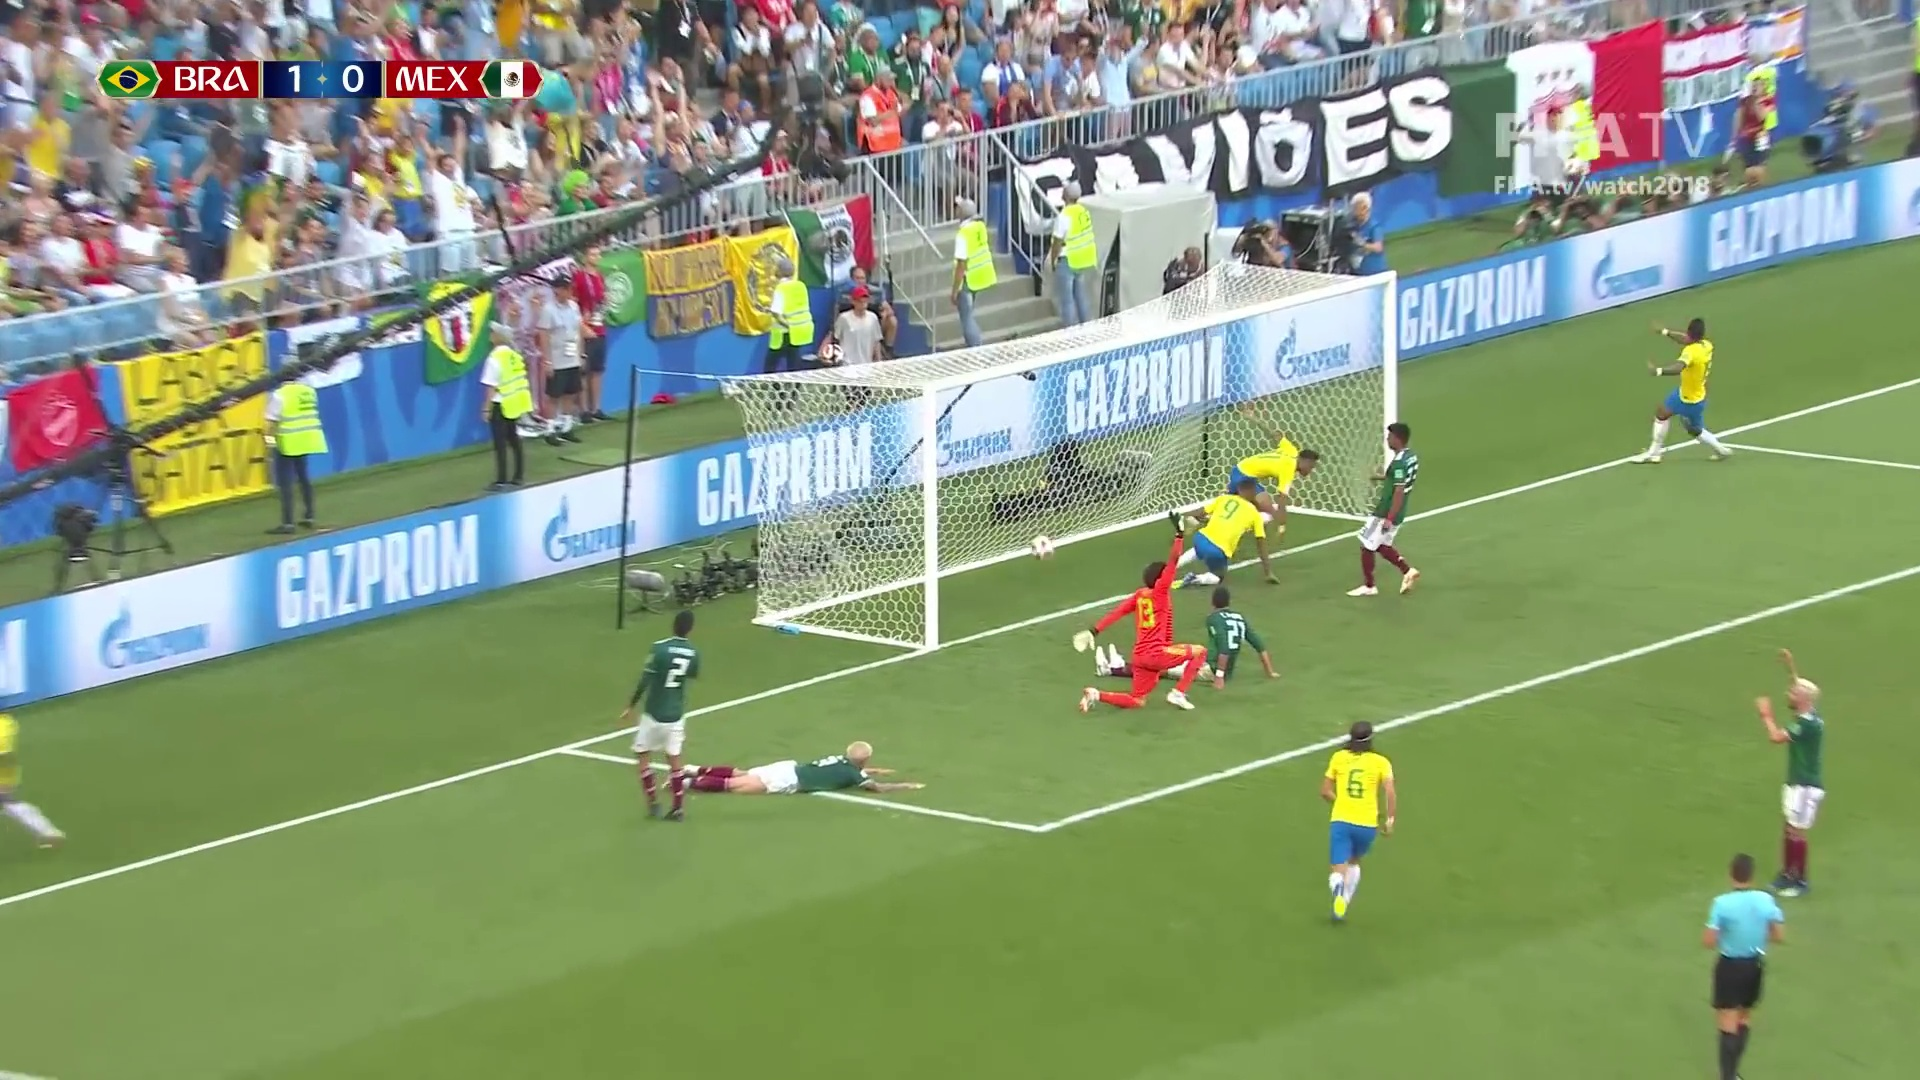ball: (1030, 537, 1056, 562)
person: (1761, 647, 1826, 903), (1090, 557, 1196, 715), (1115, 590, 1278, 684), (1323, 720, 1396, 920), (673, 740, 919, 797), (632, 611, 694, 818), (1223, 399, 1317, 534), (1161, 476, 1269, 588), (1351, 424, 1423, 593), (1648, 315, 1730, 459)
